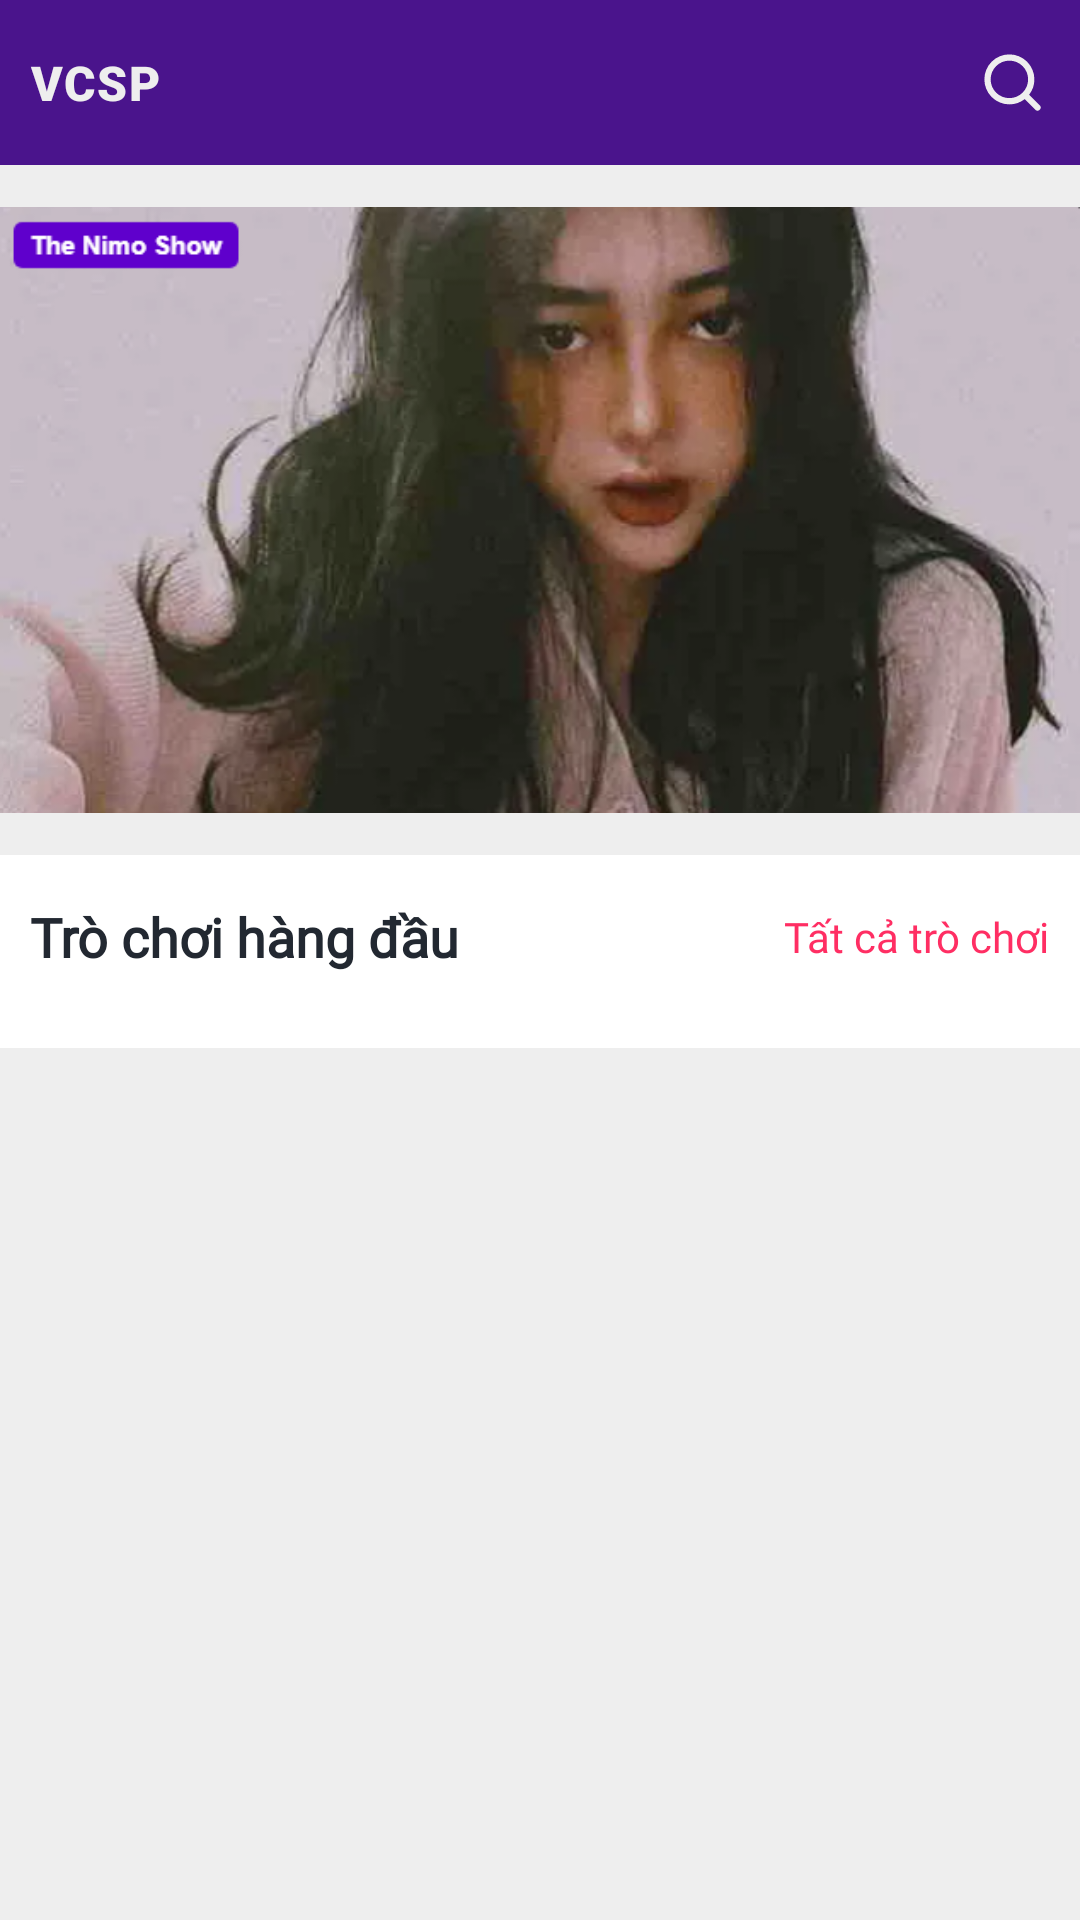

Named icons in this screenshot (1080px×1920px) and their bounding boxes, (x1, y1, x2, y2):
search: (984, 54, 1041, 111)
